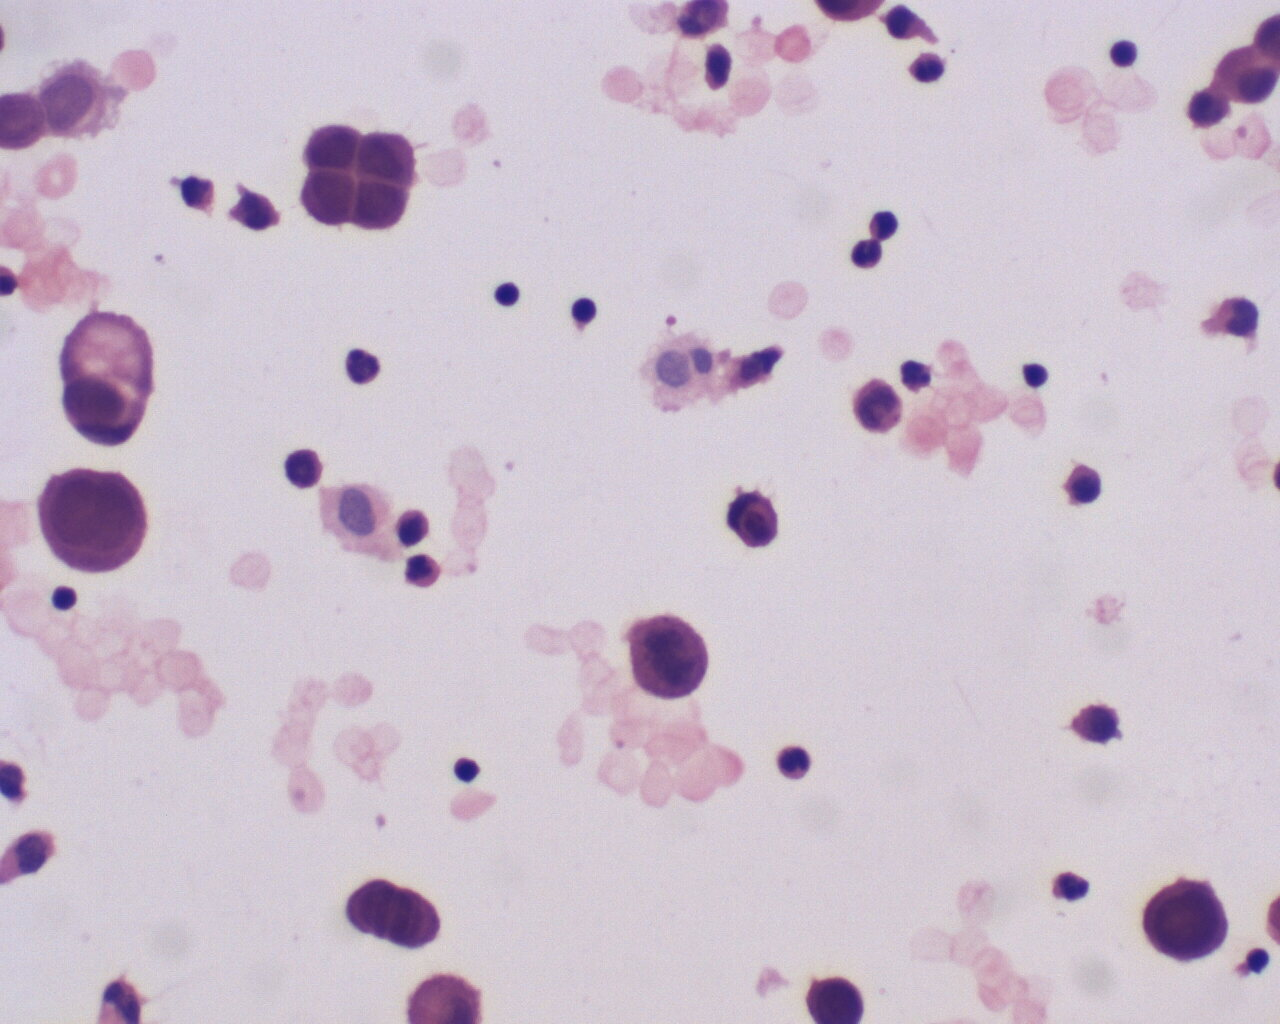ab: (33, 467, 155, 578), (301, 124, 420, 232), (1140, 872, 1236, 969), (624, 614, 714, 705)
lymph: (42, 578, 86, 616), (1106, 36, 1144, 74), (487, 275, 529, 309), (451, 753, 489, 790), (566, 288, 600, 325)
neutro: (339, 344, 388, 388), (1049, 867, 1094, 909), (404, 548, 446, 592), (775, 739, 814, 785), (851, 234, 887, 275)
